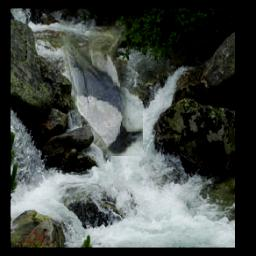Crow: (57, 18, 143, 156)
